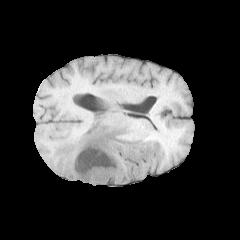glioma: (53, 121, 154, 185)
